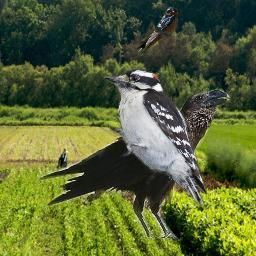Crow: (37, 89, 231, 240)
Swallow: (135, 7, 178, 62)
Woodpecker: (103, 69, 207, 211)
